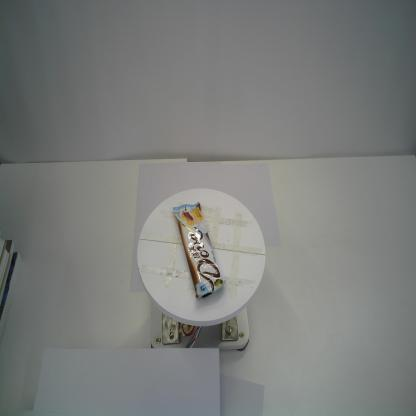Chocolate: (172, 200, 228, 301)
